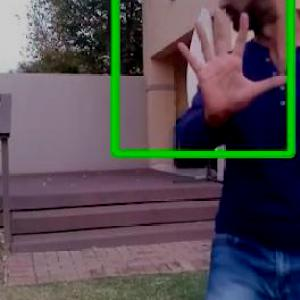follow_hand: (175, 6, 292, 122)
